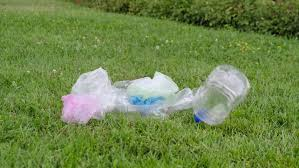plastic_bottle: (188, 61, 251, 130)
